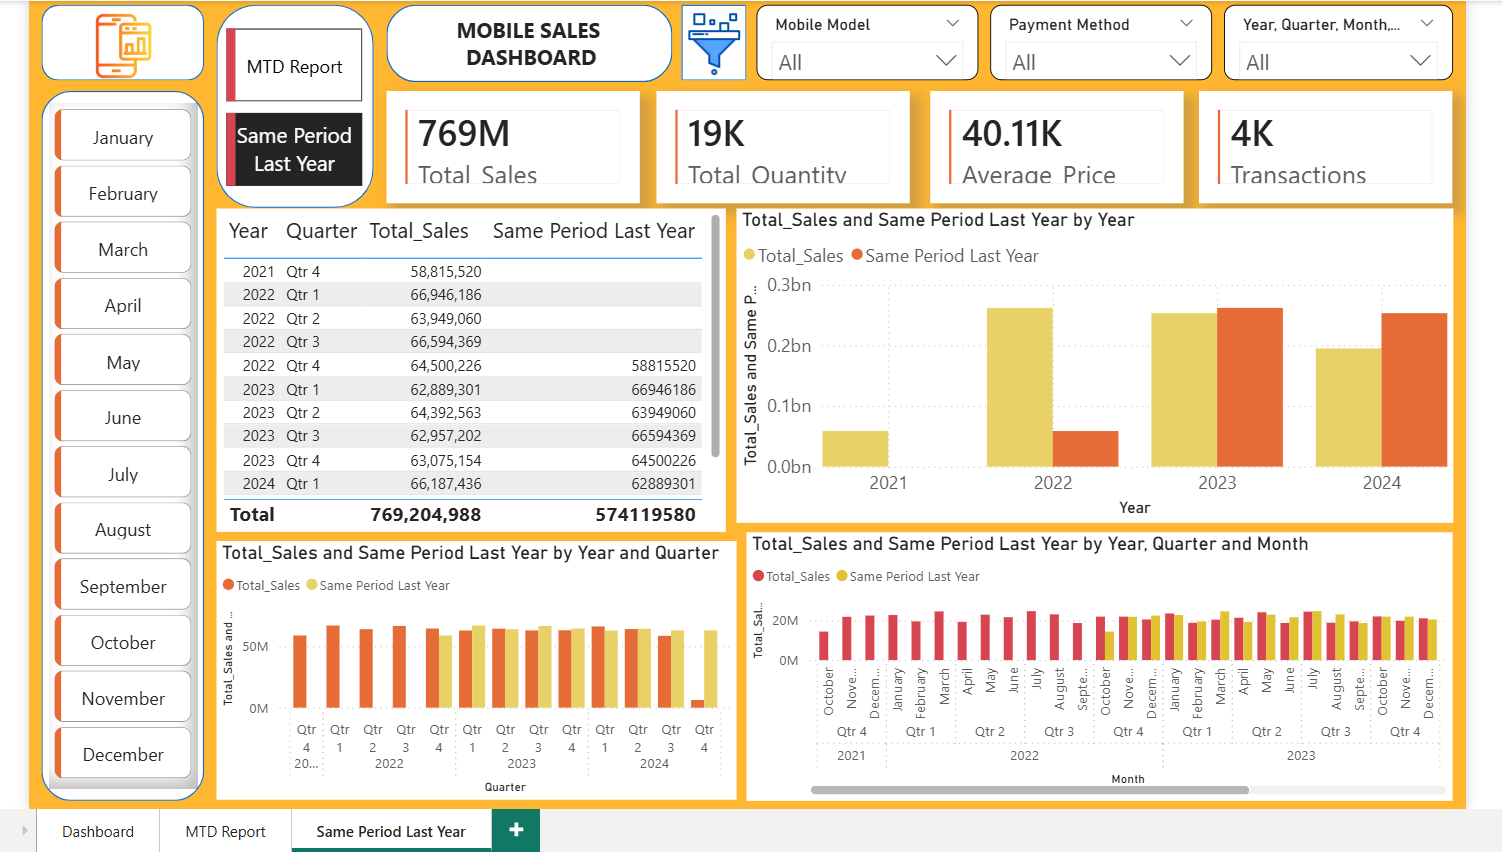

Layout of this report page (visuals, bound fields, positions):
{"tool":"powerbi","page":{"name":"Same Period Last Year","canvas":[1280,720],"ordinal":2},"visuals":[{"type":"shape","box":[10.9,3.6,144.8,67.6],"z":0},{"type":"image","box":[37.4,8.4,92.9,62.7],"z":1000},{"type":"slicer","fields":{"Values":["Sales_Data.Mobile Model"]},"box":[647.9,3.6,197.9,67.6],"z":2000},{"type":"slicer","fields":{"Values":["Sales_Data.Payment Method"]},"box":[856.6,3.6,197.9,67.6],"z":3000},{"type":"slicer","fields":{"Values":["Custom_Calender.Date.Variation.Date Hierarchy.Year","Custom_Calender.Date.Variation.Date Hierarchy.Quarter","Custom_Calender.Date.Variation.Date Hierarchy.Month","Custom_Calender.Date.Variation.Date Hierarchy.Day"]},"box":[1064.1,3.6,203.9,67.6],"z":4000},{"type":"cardVisual","fields":{"Data":["Sales_Data.Total_Sales"]},"box":[318.5,79.6,225.6,100.1],"z":5000},{"type":"cardVisual","fields":{"Data":["Sales_Data.Total_Quantity"]},"box":[558.6,79.6,225.6,100.1],"z":6000},{"type":"cardVisual","fields":{"Data":["Sales_Data.Average_Price"]},"box":[802.3,79.6,225.6,100.1],"z":7000},{"type":"cardVisual","fields":{"Data":["Sales_Data.Transactions"]},"box":[1042.4,79.6,225.6,100.1],"z":8000},{"type":"shape","box":[581.5,3.6,57.9,67.6],"z":9000},{"type":"image","box":[581.5,9.7,57.9,56.7],"z":10000},{"type":"shape","box":[318.5,3.6,254.6,68.8],"z":11000},{"type":"textbox","box":[357.1,7.2,179.8,60.3],"z":12000},{"type":"shape","box":[10.9,79.6,144.8,632.2],"z":13000},{"type":"advancedSlicerVisual","fields":{"Values":["Custom_Calender.Date.Variation.Date Hierarchy.Month"]},"box":[18.1,91.7,132.7,610.5],"z":14000},{"type":"shape","box":[166.5,3.6,139.9,181],"z":15000},{"type":"tableEx","fields":{"Values":["Custom_Calender.Date.Variation.Date Hierarchy.Year","Custom_Calender.Date.Variation.Date Hierarchy.Quarter","Sales_Data.Total_Sales","Sales_Data.Same Period Last Year"]},"box":[166.5,184.6,453.6,288.3],"z":16000},{"type":"clusteredColumnChart","fields":{"Category":["Custom_Calender.Date.Variation.Date Hierarchy.Year","Custom_Calender.Date.Variation.Date Hierarchy.Quarter"],"Y":["Sales_Data.Total_Sales","Sales_Data.Same Period Last Year"]},"box":[629.8,184.6,638.2,279.9],"z":17000},{"type":"clusteredColumnChart","fields":{"Category":["Custom_Calender.Date.Variation.Date Hierarchy.Year","Custom_Calender.Date.Variation.Date Hierarchy.Quarter"],"Y":["Sales_Data.Total_Sales","Sales_Data.Same Period Last Year"]},"box":[166.5,481.4,463.3,230.4],"z":18000},{"type":"clusteredColumnChart","fields":{"Category":["Custom_Calender.Date.Variation.Date Hierarchy.Year","Custom_Calender.Date.Variation.Date Hierarchy.Quarter","Custom_Calender.Date.Variation.Date Hierarchy.Month"],"Y":["Sales_Data.Total_Sales","Sales_Data.Same Period Last Year"]},"box":[639.4,472.9,628.6,238.9],"z":19000},{"type":"pageNavigator","box":[175.9,24.5,121.3,140.3],"z":19001}]}

Visuals, with their boxes on the page's 1280x720 design canvas (x1, y1, x2, y2). These are canvas units, not pixel positions in the 1502x852 screenshot, which may show the page scaled, cropped or inside an application window:
shape: {"x1": 11, "y1": 4, "x2": 156, "y2": 71}
image: {"x1": 37, "y1": 8, "x2": 130, "y2": 71}
slicer - Sales_Data.Mobile Model: {"x1": 648, "y1": 4, "x2": 846, "y2": 71}
slicer - Sales_Data.Payment Method: {"x1": 857, "y1": 4, "x2": 1054, "y2": 71}
slicer - Custom_Calender.Date.Variation.Date Hierarchy.Year x Custom_Calender.Date.Variation.Date Hierarchy.Quarter: {"x1": 1064, "y1": 4, "x2": 1268, "y2": 71}
cardVisual - Sales_Data.Total_Sales: {"x1": 318, "y1": 80, "x2": 544, "y2": 180}
cardVisual - Sales_Data.Total_Quantity: {"x1": 559, "y1": 80, "x2": 784, "y2": 180}
cardVisual - Sales_Data.Average_Price: {"x1": 802, "y1": 80, "x2": 1028, "y2": 180}
cardVisual - Sales_Data.Transactions: {"x1": 1042, "y1": 80, "x2": 1268, "y2": 180}
shape: {"x1": 582, "y1": 4, "x2": 639, "y2": 71}
image: {"x1": 582, "y1": 10, "x2": 639, "y2": 66}
shape: {"x1": 318, "y1": 4, "x2": 573, "y2": 72}
textbox: {"x1": 357, "y1": 7, "x2": 537, "y2": 68}
shape: {"x1": 11, "y1": 80, "x2": 156, "y2": 712}
advancedSlicerVisual - Custom_Calender.Date.Variation.Date Hierarchy.Month: {"x1": 18, "y1": 92, "x2": 151, "y2": 702}
shape: {"x1": 166, "y1": 4, "x2": 306, "y2": 185}
tableEx - Custom_Calender.Date.Variation.Date Hierarchy.Year x Custom_Calender.Date.Variation.Date Hierarchy.Quarter: {"x1": 166, "y1": 185, "x2": 620, "y2": 473}
clusteredColumnChart - Custom_Calender.Date.Variation.Date Hierarchy.Year x Custom_Calender.Date.Variation.Date Hierarchy.Quarter: {"x1": 630, "y1": 185, "x2": 1268, "y2": 464}
clusteredColumnChart - Custom_Calender.Date.Variation.Date Hierarchy.Year x Custom_Calender.Date.Variation.Date Hierarchy.Quarter: {"x1": 166, "y1": 481, "x2": 630, "y2": 712}
clusteredColumnChart - Custom_Calender.Date.Variation.Date Hierarchy.Year x Custom_Calender.Date.Variation.Date Hierarchy.Quarter: {"x1": 639, "y1": 473, "x2": 1268, "y2": 712}
pageNavigator: {"x1": 176, "y1": 24, "x2": 297, "y2": 165}
